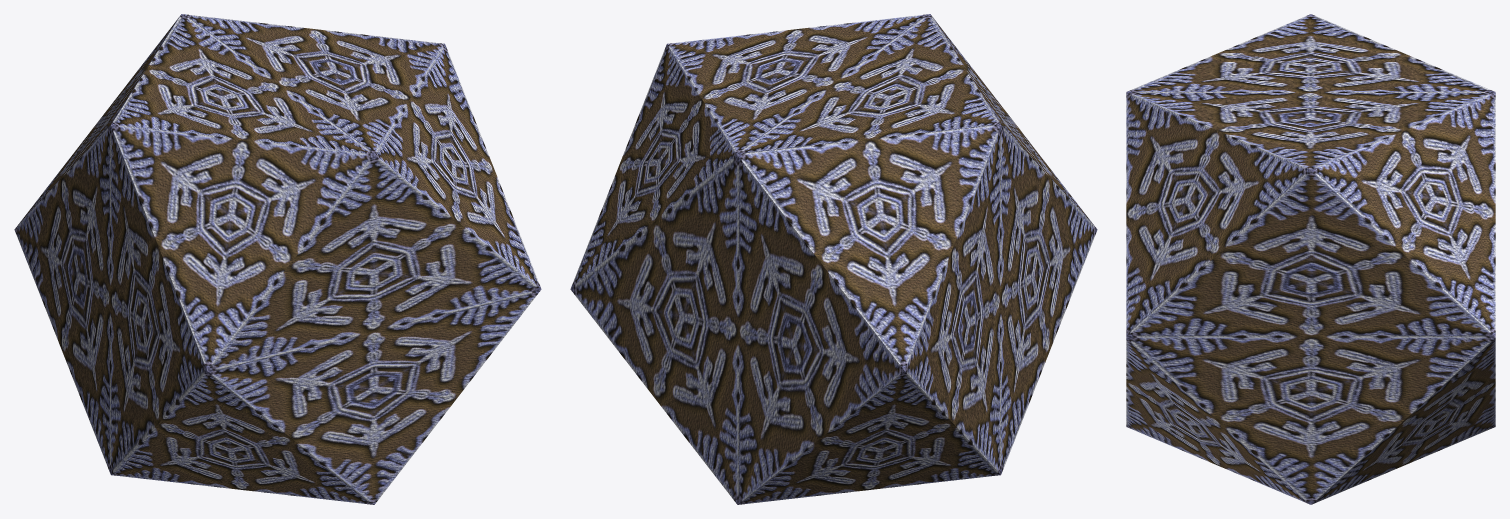
The model's file is Cuboctahedron.obj.
The picture shows the model from 3 angles, left to right: view 1: azimuth 30°, elevation 25°; view 2: azimuth 150°, elevation 25°; view 3: azimuth 270°, elevation 25°; orthographic projection. The views are drawn at different scales.
Size of the model in its own units: 1.41 by 1.41 by 1.41.
1 material, 1 textured.
